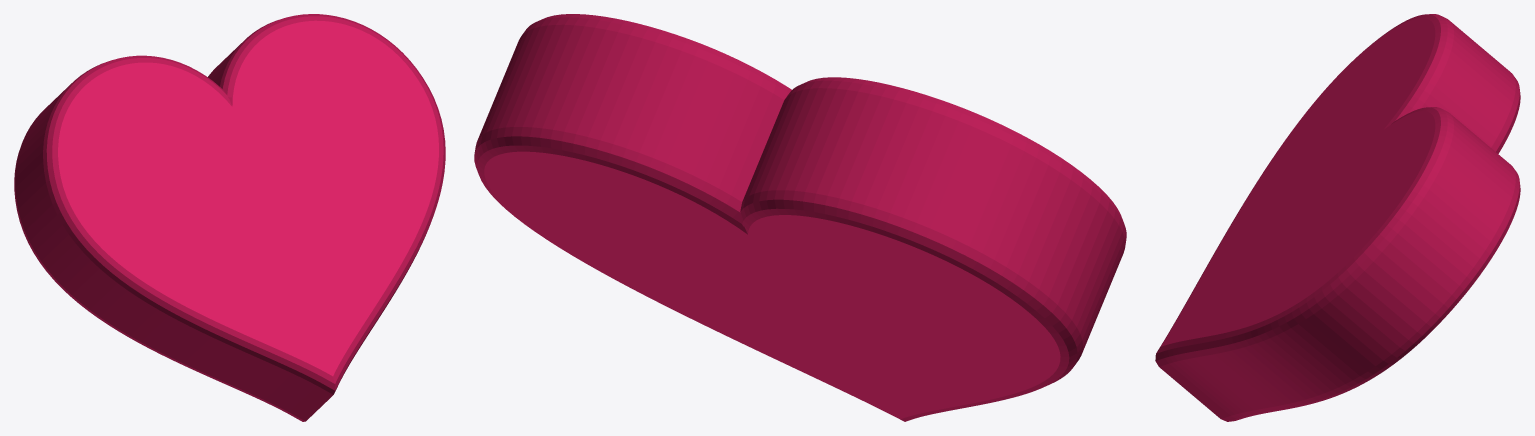
The model's file is heart.glb.
3 views of the same model, side by side, from view 1: azimuth 30°, elevation 25°; view 2: azimuth 150°, elevation 25°; view 3: azimuth 270°, elevation 25° (orthographic). The views are drawn at different scales.
Bounding box in the file's own units: 1.4 × 1.08 × 1.04.
